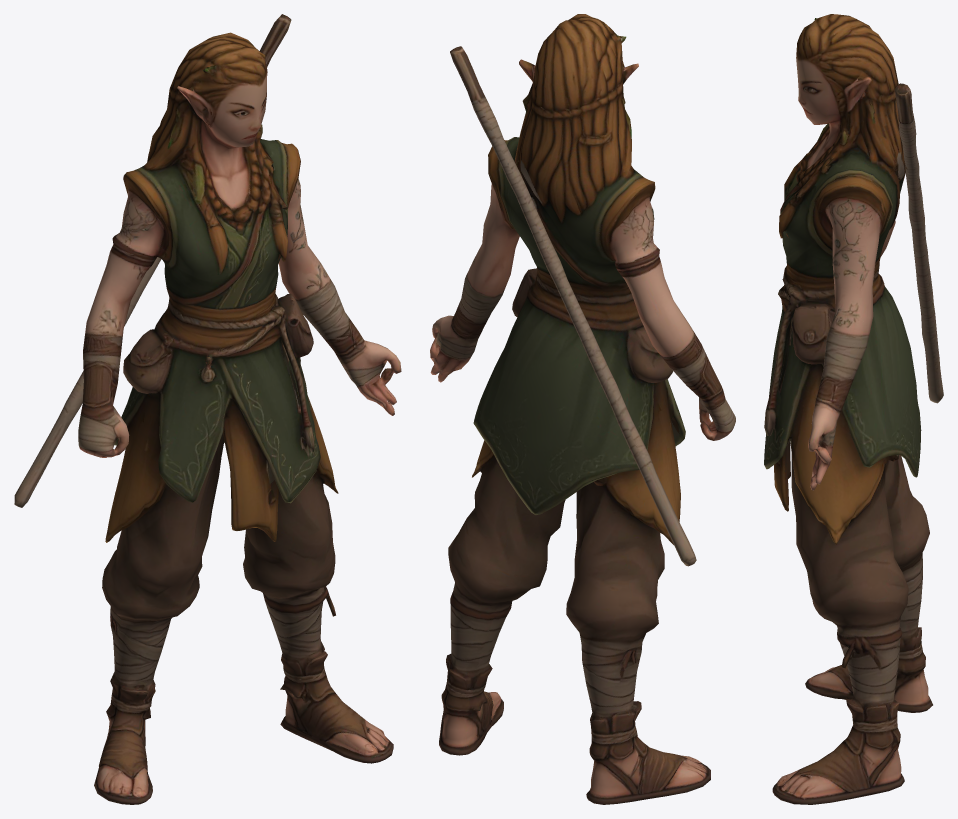
Rendered from Monja Mulher.glb.
The picture shows the model from 3 angles, left to right: view 1: azimuth 30°, elevation 25°; view 2: azimuth 150°, elevation 25°; view 3: azimuth 270°, elevation 25°; orthographic projection. The views are drawn at different scales.
Parts seen in each view (by area): view 1: tripo_node_350e5059-f7ff-4891-ad4b-c6a55be49142; view 2: tripo_node_350e5059-f7ff-4891-ad4b-c6a55be49142; view 3: tripo_node_350e5059-f7ff-4891-ad4b-c6a55be49142.
Part boxes in pixels (x1,y1,x2,y2): tripo_node_350e5059-f7ff-4891-ad4b-c6a55be49142: (14, 14, 401, 804); tripo_node_350e5059-f7ff-4891-ad4b-c6a55be49142: (430, 14, 735, 804); tripo_node_350e5059-f7ff-4891-ad4b-c6a55be49142: (764, 14, 943, 804).
Size of the model in its own units: 0.4627 by 0.9979 by 0.2268.
1 material, 1 textured.
